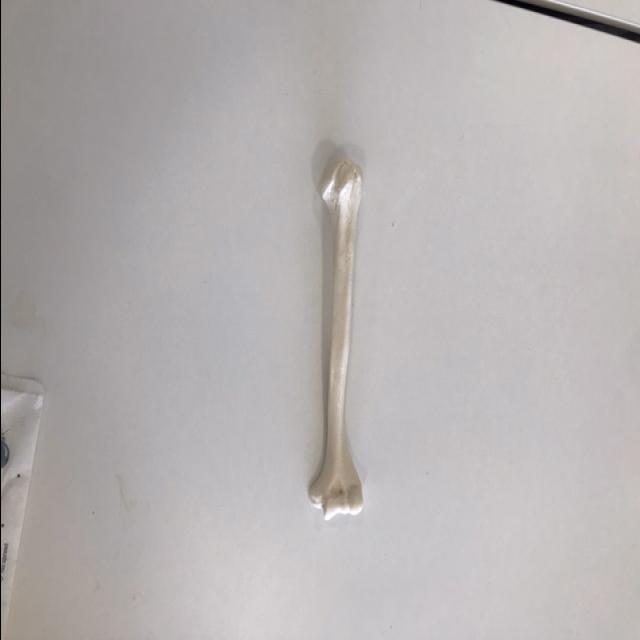bone: (298, 154, 372, 518)
